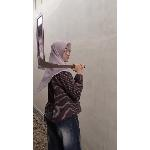Golok: (36, 56, 82, 72)
